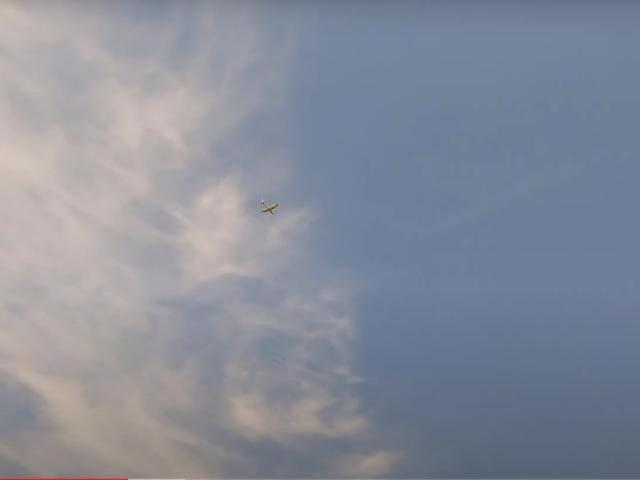iha: (258, 199, 280, 217)
